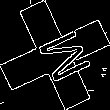M_SW: (22, 24, 88, 86)
